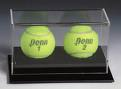tennis ball: (19, 24, 56, 60), (63, 25, 100, 58)
